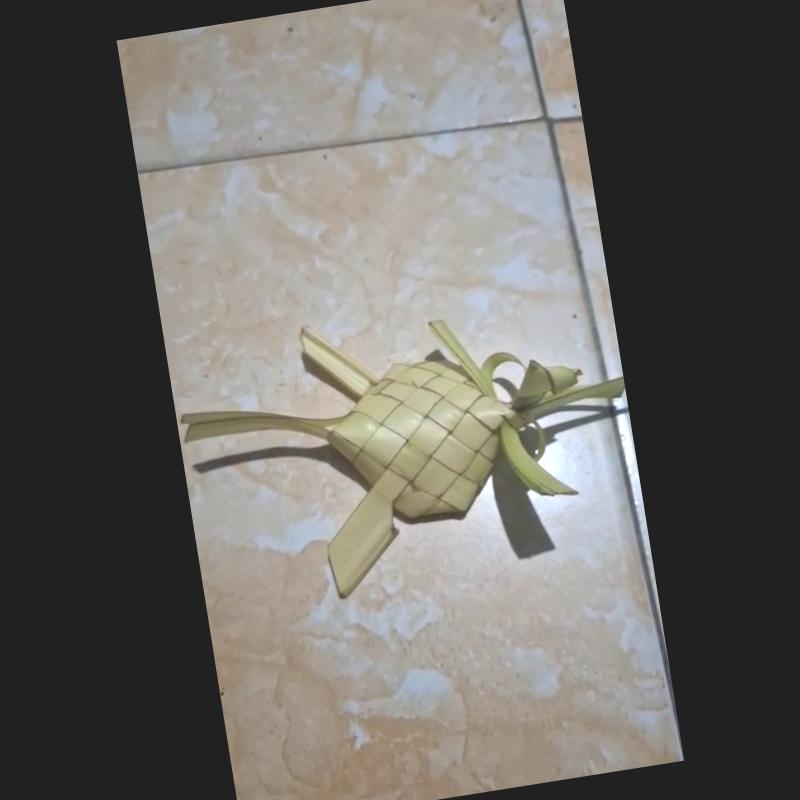Tipat Dampulan: (178, 311, 625, 598)
